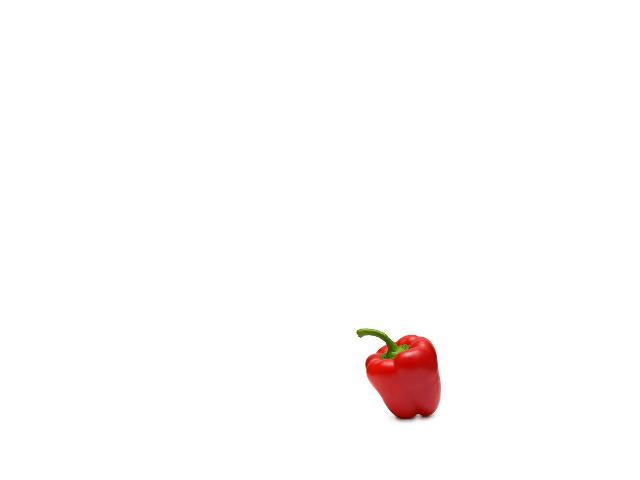bell_pepper: (354, 323, 444, 425)
